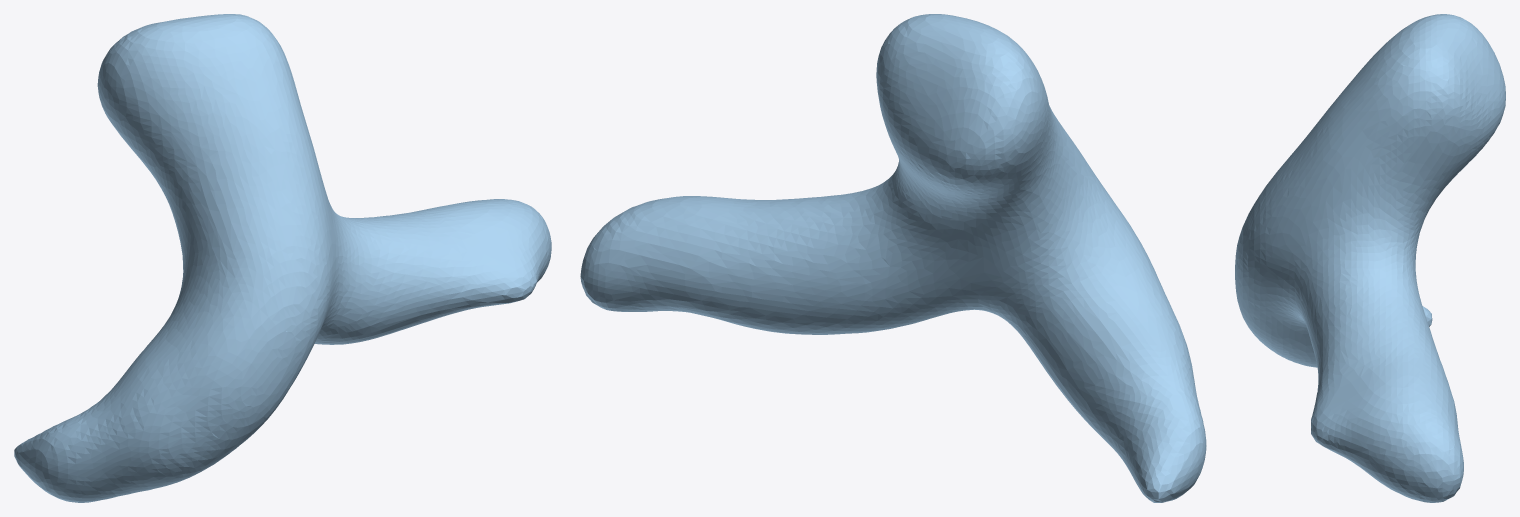
The picture shows the model from 3 angles, left to right: view 1: azimuth 30°, elevation 25°; view 2: azimuth 150°, elevation 25°; view 3: azimuth 270°, elevation 25°; orthographic projection. The views are drawn at different scales.
Parts seen in each view (by area): view 1: world; view 2: world; view 3: world.
Boxes of the visible parts, left/top/right/bottom form: world: left=14, top=14, right=551, bottom=502; world: left=580, top=14, right=1206, bottom=502; world: left=1235, top=14, right=1505, bottom=502.
Size of the model in its own units: 0.8105 by 0.6036 by 0.3711.
